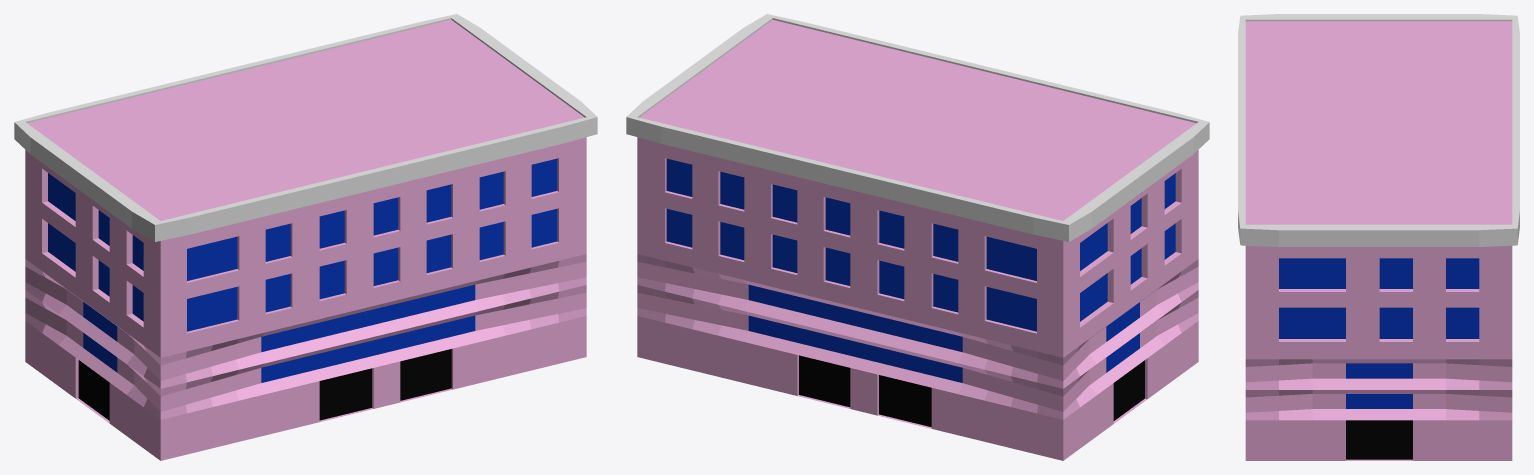
Rendered from pinkrichblud!!!!!!!!!!!!!!!!!!!!!!!!!!!!!!!!!!!!!!!!!!!!!!!.fbx.
3 views of the same model, side by side, from view 1: azimuth 30°, elevation 25°; view 2: azimuth 150°, elevation 25°; view 3: azimuth 270°, elevation 25° (orthographic).
Visible parts, largest first — view 1: Cube.066; view 2: Cube.066; view 3: Cube.066.
Boxes of the visible parts, box(x1,y1,x2,y2) form: Cube.066: box(14, 14, 597, 460); Cube.066: box(626, 14, 1209, 460); Cube.066: box(1238, 14, 1519, 460).
Bounding box in the file's own units: 1241 × 633 × 683.
